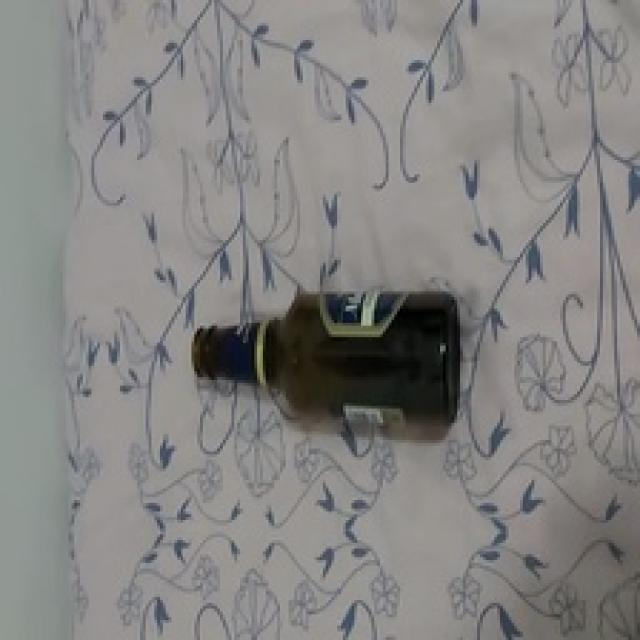Glass: (192, 287, 463, 428)
